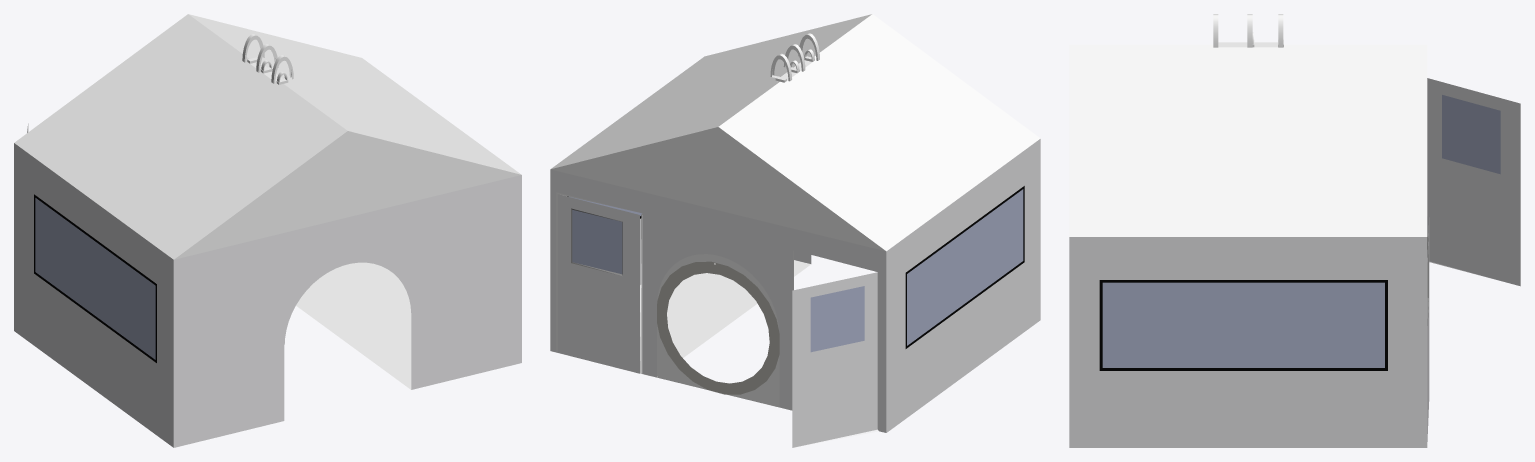
The model's file is PipeHousing.fbx.
3 views of the same model, side by side, from view 1: azimuth 30°, elevation 25°; view 2: azimuth 150°, elevation 25°; view 3: azimuth 270°, elevation 25° (orthographic). The views are drawn at different scales.
Parts seen in each view (by area): view 1: PipeHousing; view 2: PipeHousing; view 3: PipeHousing.
Part boxes in pixels (box(x1,y1,x2,y2)): PipeHousing: box(14, 14, 521, 447); PipeHousing: box(550, 14, 1040, 447); PipeHousing: box(1069, 14, 1520, 447).
Size of the model in its own units: 302 by 252 by 303.
